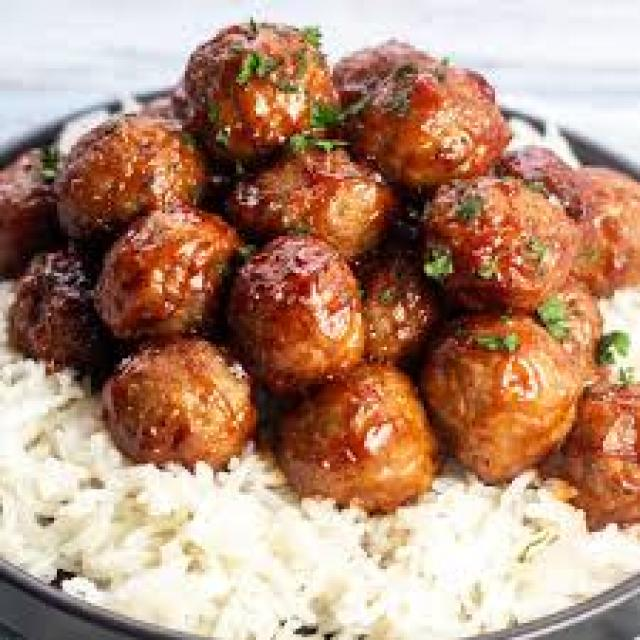Meatball: (264, 358, 460, 512), (326, 28, 516, 180), (414, 306, 588, 467), (215, 228, 380, 386), (87, 330, 261, 475), (418, 174, 589, 316), (171, 19, 338, 163), (40, 102, 215, 228), (83, 197, 236, 336)
